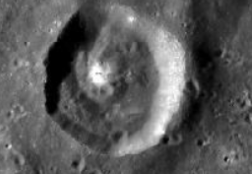crater: (60, 149, 99, 171)
